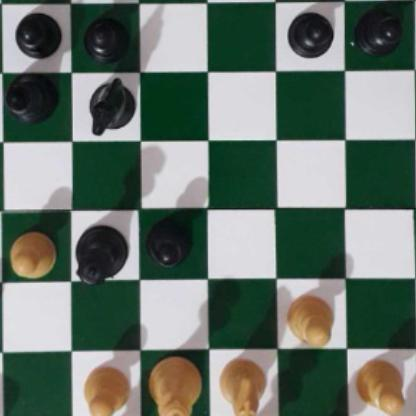black-bishop: (2, 73, 58, 123)
black-knight: (86, 76, 133, 132)
black-pawn: (353, 7, 404, 54), (146, 215, 192, 266), (14, 8, 60, 58), (286, 7, 333, 55), (83, 9, 127, 60)
black-queen: (73, 224, 126, 284)
white-knight: (218, 356, 267, 416)
white-pawn: (5, 227, 58, 279), (284, 290, 333, 345), (81, 365, 130, 416)
white-queen: (150, 353, 199, 416)
